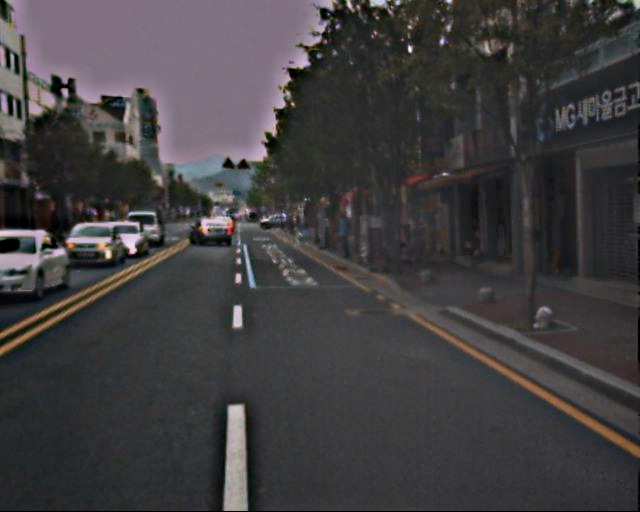person: (407, 218, 429, 271), (335, 211, 356, 261)
